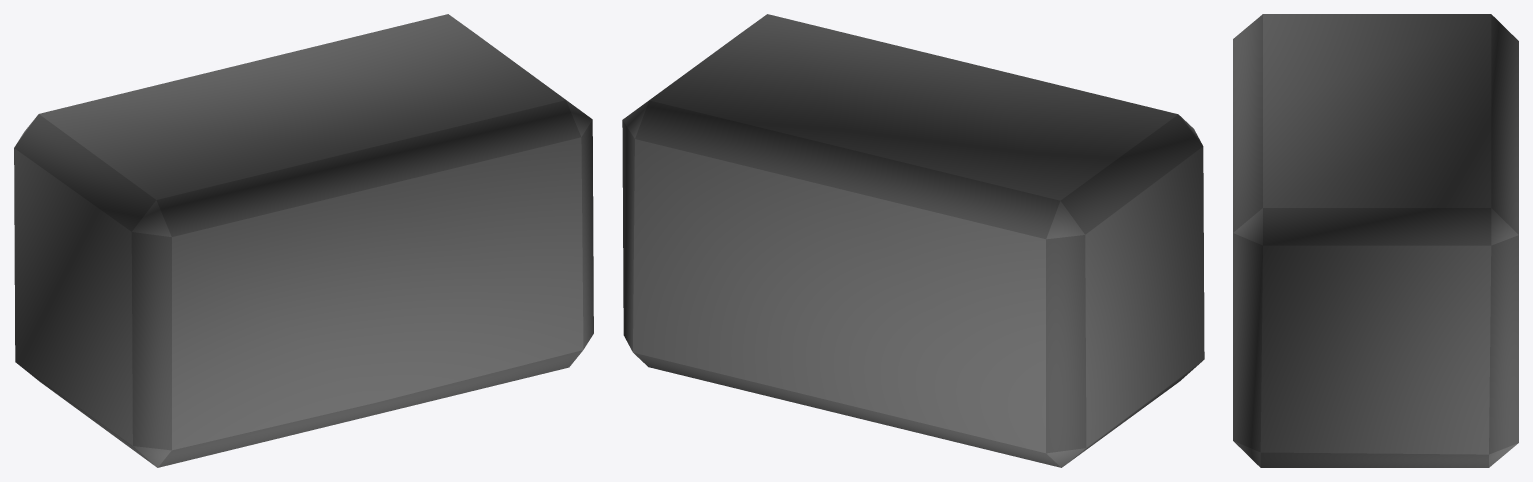
The picture shows the model from 3 angles, left to right: view 1: azimuth 30°, elevation 25°; view 2: azimuth 150°, elevation 25°; view 3: azimuth 270°, elevation 25°; orthographic projection. The views are drawn at different scales.
Visible parts, largest first — view 1: group_13; view 2: group_13; view 3: group_13.
Part boxes in pixels (x1,y1,x2,y2): group_13: [14, 14, 593, 467]; group_13: [622, 14, 1204, 467]; group_13: [1233, 14, 1518, 467].
Size of the model in its own units: 224 by 124 by 124.
1 material, 1 textured.
